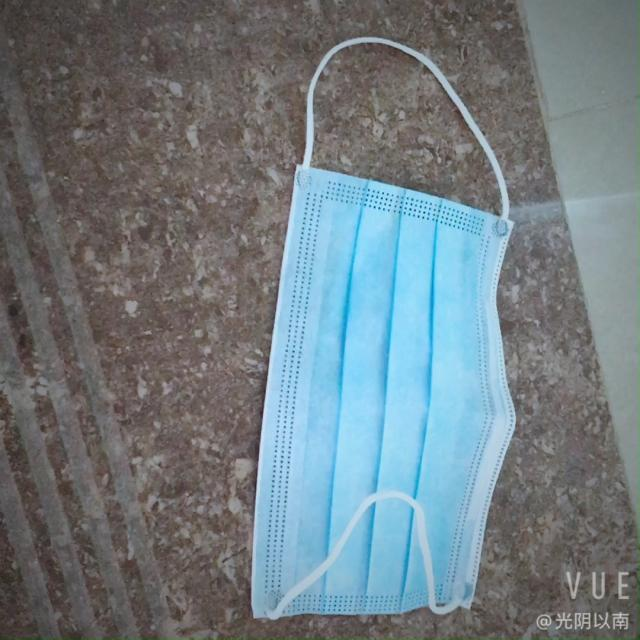non-organic waste: (246, 160, 536, 623)
